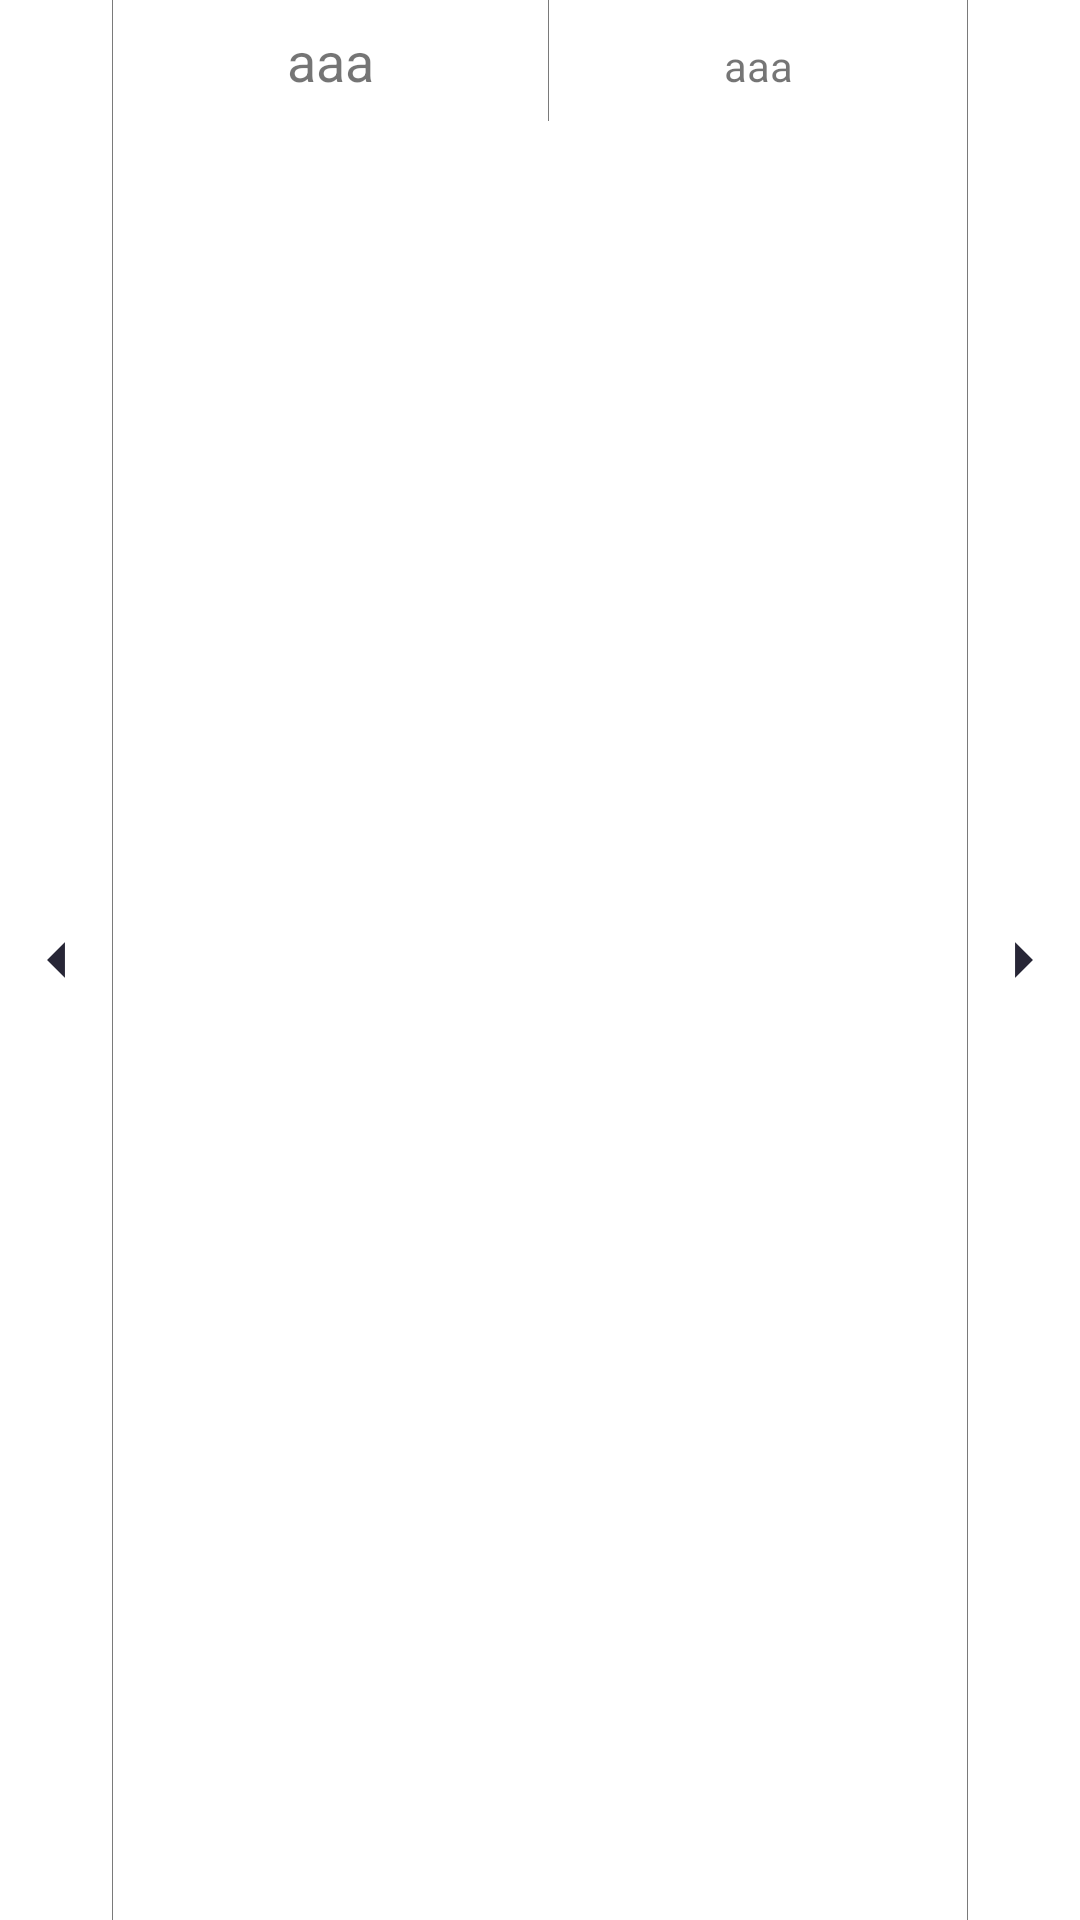

Named icons in this screenshot (1080x1920) and their centers, (x=x, y=y):
arrow left: (x=56, y=960)
arrow right: (x=1024, y=960)
